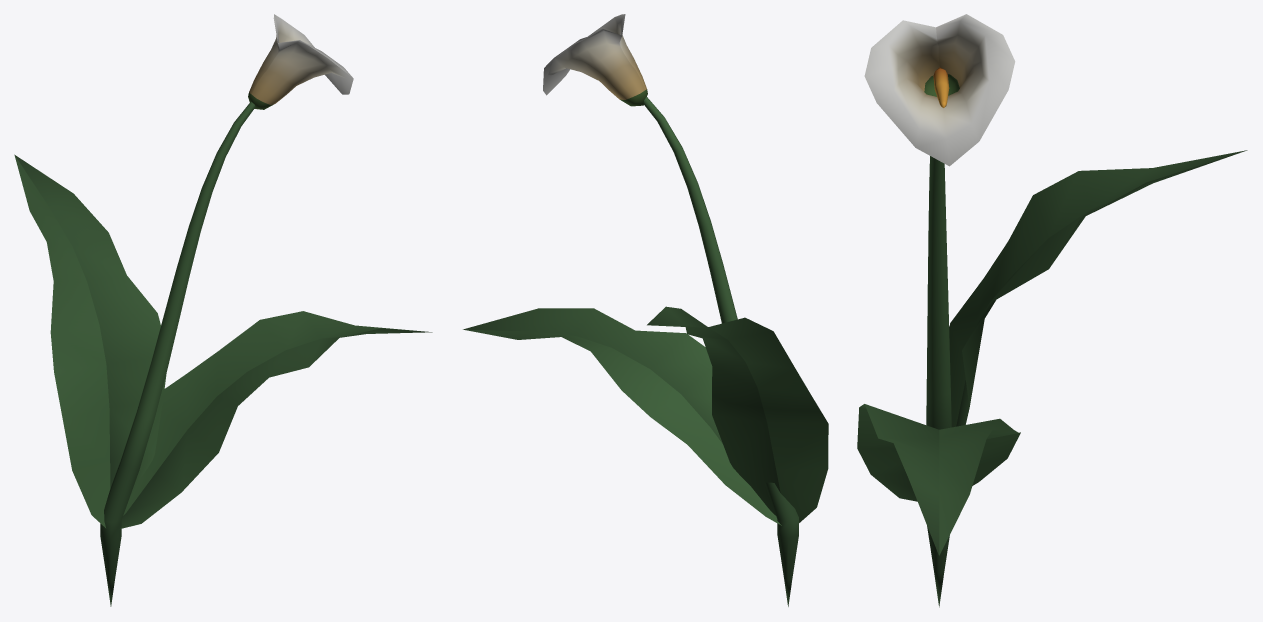
The model's file is plants-flowers-calla-lily_v2.glb.
3 views of the same model, side by side, from view 1: azimuth 30°, elevation 25°; view 2: azimuth 150°, elevation 25°; view 3: azimuth 270°, elevation 25° (orthographic). The views are drawn at different scales.
Parts seen in each view (by area): view 1: Calla Lily_v2; view 2: Calla Lily_v2; view 3: Calla Lily_v2.
Boxes of the visible parts, x1,y1,x2,y2 form: Calla Lily_v2: (14,14,432,606); Calla Lily_v2: (463,14,828,606); Calla Lily_v2: (857,14,1247,607).
Bounding box in the file's own units: 0.427 × 0.6 × 0.3023.
